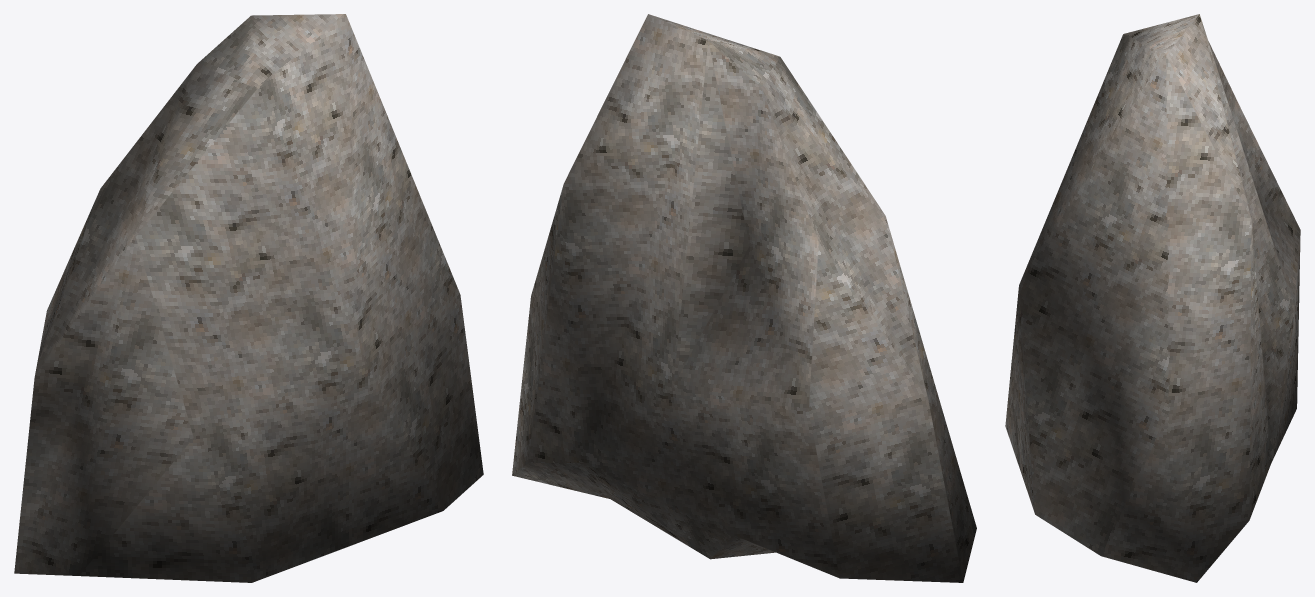
File: rock_1.glb
3 renders of one model, left to right at view 1: azimuth 30°, elevation 25°; view 2: azimuth 150°, elevation 25°; view 3: azimuth 270°, elevation 25°, orthographic. The views are drawn at different scales.
Visible parts, largest first — view 1: Rock 1; view 2: Rock 1; view 3: Rock 1.
Boxes of the visible parts, x1,y1,x2,y2 form: Rock 1: (14,14,483,582); Rock 1: (512,14,976,582); Rock 1: (1005,14,1300,582).
Bounding box in the file's own units: 7.19 × 7.8 × 4.23.
Materials: 1 (1 with a texture image).
